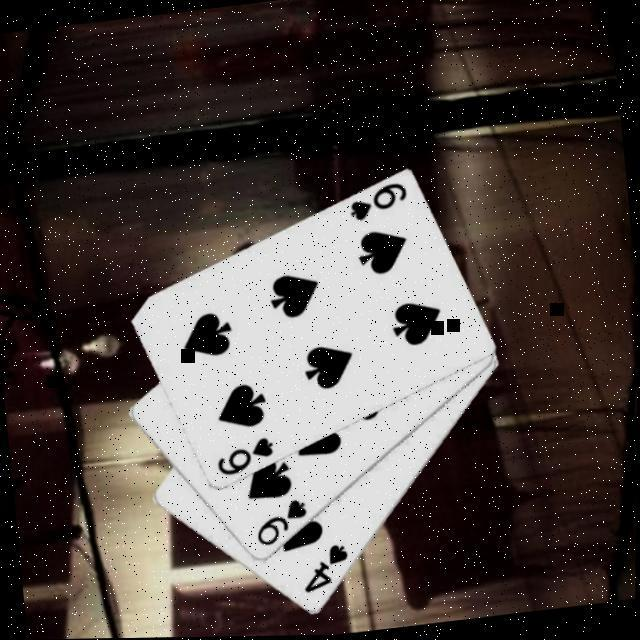4S: (297, 542, 354, 598)
6S: (212, 435, 278, 481), (344, 181, 410, 227)
9S: (250, 496, 312, 552)
